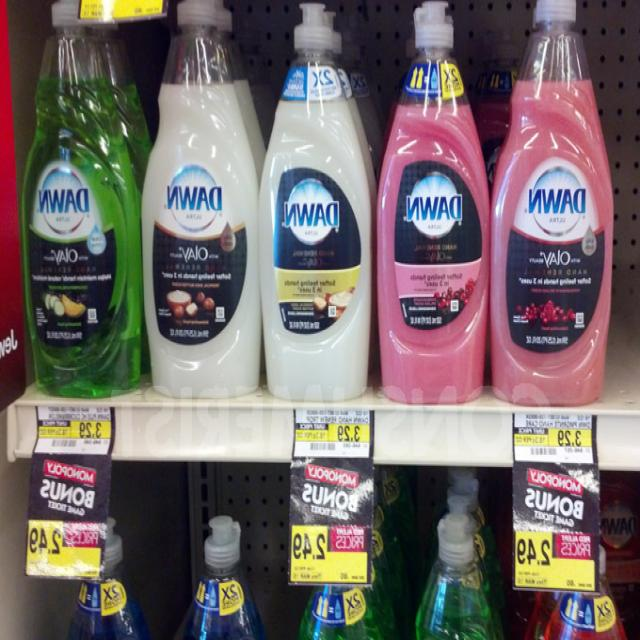plastic: (488, 0, 613, 404), (144, 0, 264, 404), (376, 0, 490, 407), (262, 0, 376, 402), (29, 2, 142, 400)
